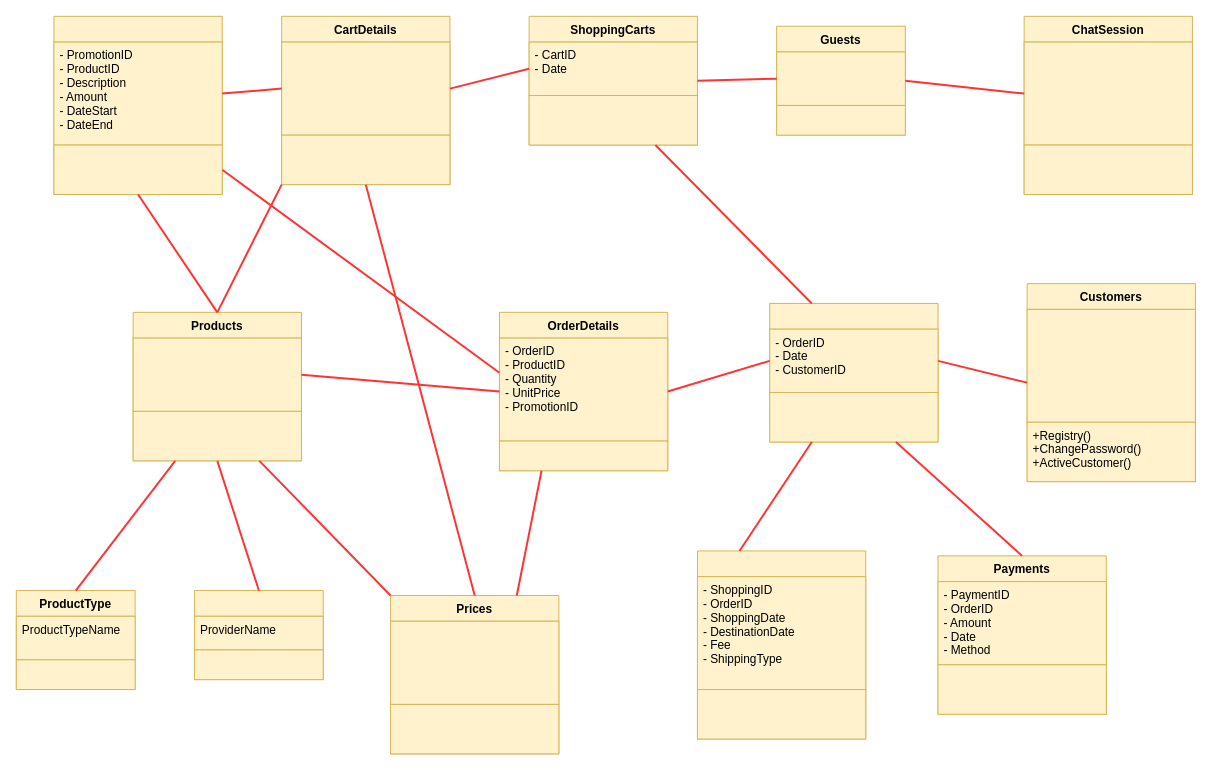
This 1212x770 diagram has some shape labels left out. The box of each missing label's shape, as (x1, y1, x2, y2) in pixels:
- CartID - ProductID - Quantity - UnitPrice - PromotionAmount: (281, 41, 450, 135)
- CustomerID - Name - Address - Phone - Date - Password - Status: (1026, 308, 1195, 422)
- PriceID - ProductID - UnitPrice - DateStart - DateEnd: (390, 620, 559, 704)
- ProductID - Name - ConfurationInfo: (132, 337, 301, 411)
- SessionID - UserID - GuestSessionID - MessageID - Message - Date: (1023, 41, 1192, 145)
Orders: (769, 302, 938, 442)
Promotions: (53, 15, 222, 195)
Providers: (194, 590, 323, 680)
ShoppingOrders: (696, 550, 866, 739)
